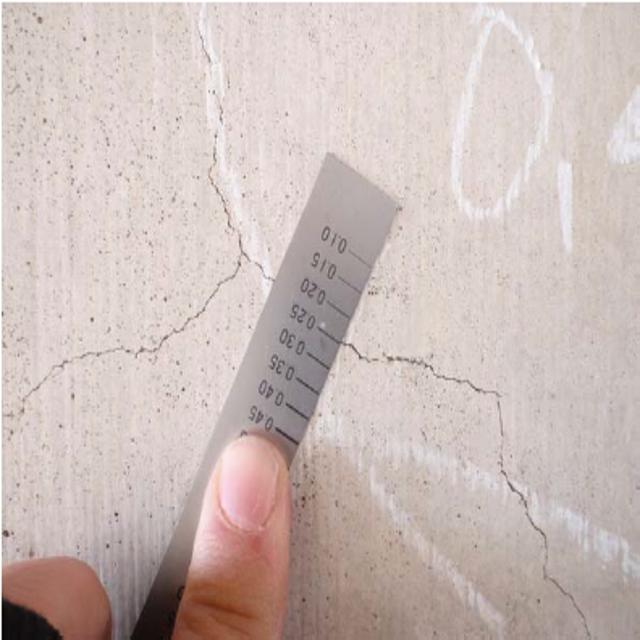crack: (363, 327, 601, 640), (186, 24, 267, 309), (6, 334, 196, 420)
